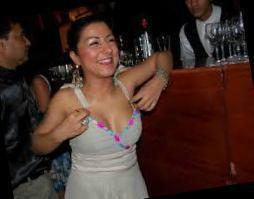Drunk: (79, 24, 121, 76)
